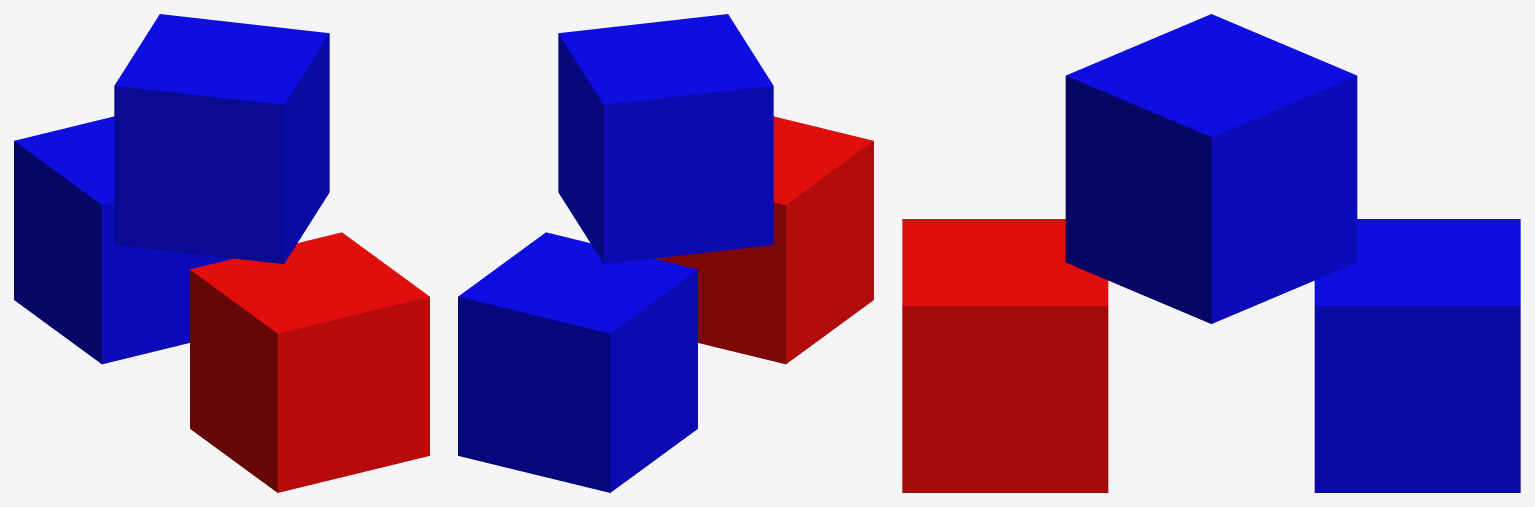
Rendered from max_instanced_material_6100_ascii.fbx.
3 views of the same model, side by side, from view 1: azimuth 30°, elevation 25°; view 2: azimuth 150°, elevation 25°; view 3: azimuth 270°, elevation 25° (orthographic). The views are drawn at different scales.
Parts seen in each view (by area): view 1: Red, Blue, Green; view 2: Green, Blue, Red; view 3: Blue, Green, Red.
Boxes of the visible parts, left/top/right/bottom form: Red: left=190, top=232, right=429, bottom=492; Blue: left=114, top=14, right=329, bottom=263; Green: left=14, top=116, right=233, bottom=364; Green: left=458, top=232, right=697, bottom=492; Blue: left=558, top=14, right=773, bottom=263; Red: left=654, top=116, right=873, bottom=364; Blue: left=1065, top=14, right=1357, bottom=323; Green: left=1314, top=219, right=1520, bottom=492; Red: left=902, top=219, right=1108, bottom=492.
Bounding box in the file's own units: 28.28 × 60 × 40.
